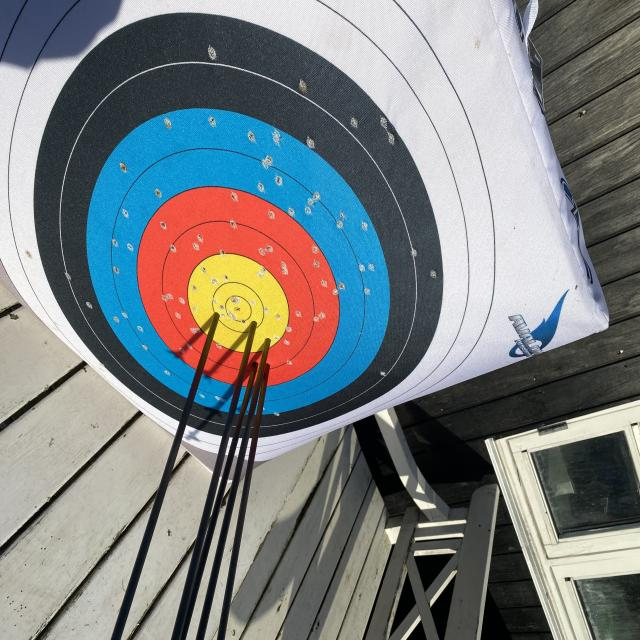Arrow_Red: (238, 351, 264, 388), (258, 348, 282, 385)
Arrow_Yellow: (207, 290, 230, 338), (239, 300, 260, 336), (255, 321, 278, 350)
